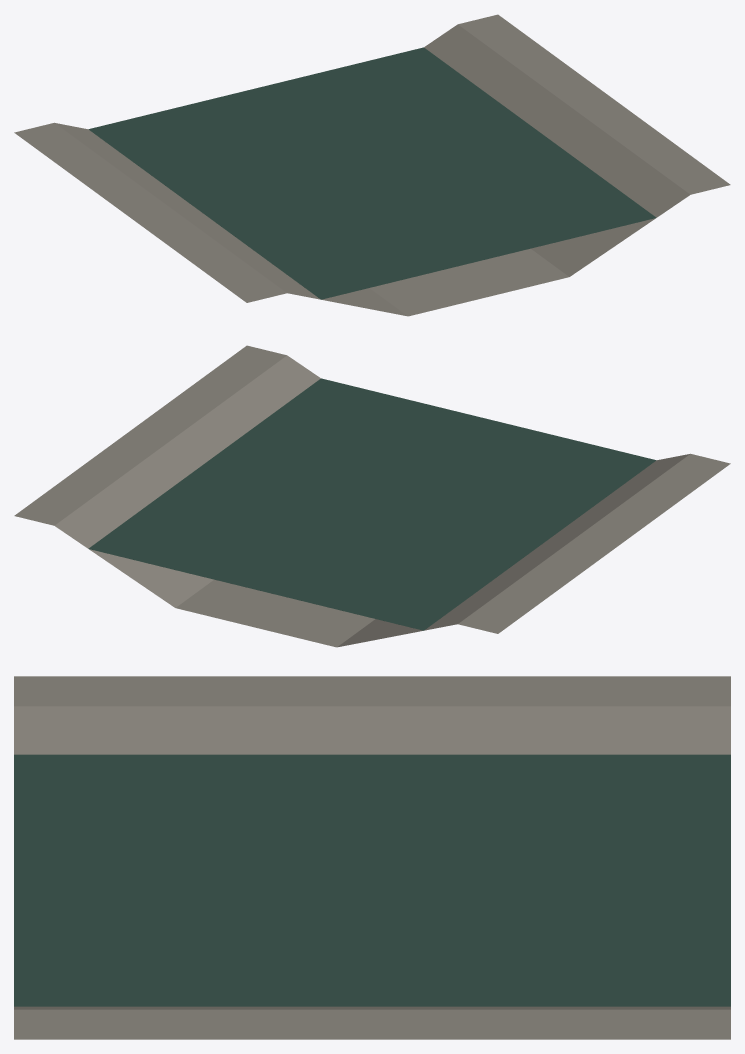
File: tf_canal_main_20m.glb
3 views of the same model, one above another, from view 1: azimuth 30°, elevation 25°; view 2: azimuth 150°, elevation 25°; view 3: azimuth 270°, elevation 25° (orthographic). The views are drawn at different scales.
Parts seen in each view (by area): view 1: tf_canal_main_20m; view 2: tf_canal_main_20m; view 3: tf_canal_main_20m.
Part boxes in pixels (x1,y1,x2,y2): tf_canal_main_20m: (14,14,730,316); tf_canal_main_20m: (14,345,730,647); tf_canal_main_20m: (14,676,730,1039).
Size of what is drawn, in the model's own units: 24 by 2.5 by 20.
